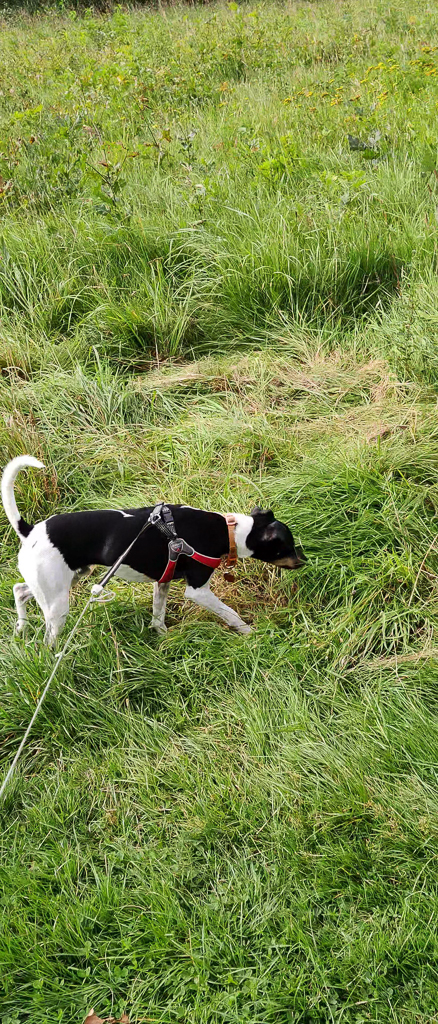Dog: (0, 436, 316, 676)
